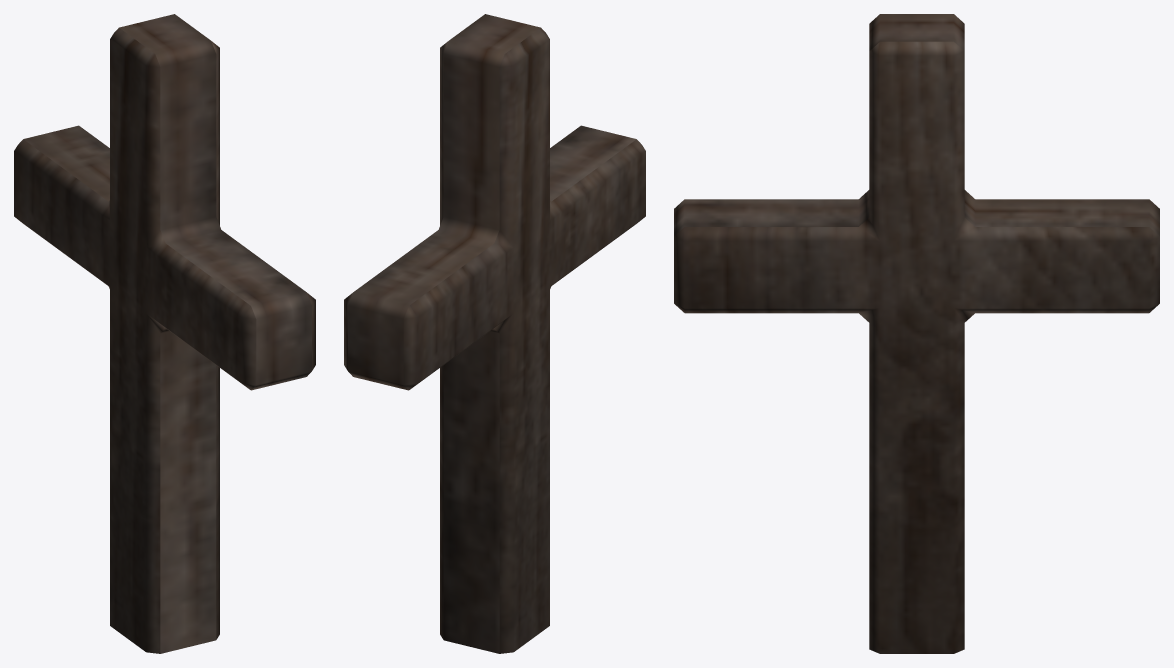
File: SM_Cross.fbx
3 renders of one model, left to right at view 1: azimuth 30°, elevation 25°; view 2: azimuth 150°, elevation 25°; view 3: azimuth 270°, elevation 25°, orthographic.
Parts seen in each view (by area): view 1: SM_Cross_LOD0; view 2: SM_Cross_LOD0; view 3: SM_Cross_LOD0.
Part boxes in pixels (x1,y1,x2,y2): SM_Cross_LOD0: (14, 14, 315, 653); SM_Cross_LOD0: (344, 14, 645, 653); SM_Cross_LOD0: (674, 14, 1159, 653).
Bounding box in the file's own units: 9.14 × 51.09 × 70.49.
Materials: 1 (1 with a texture image).
